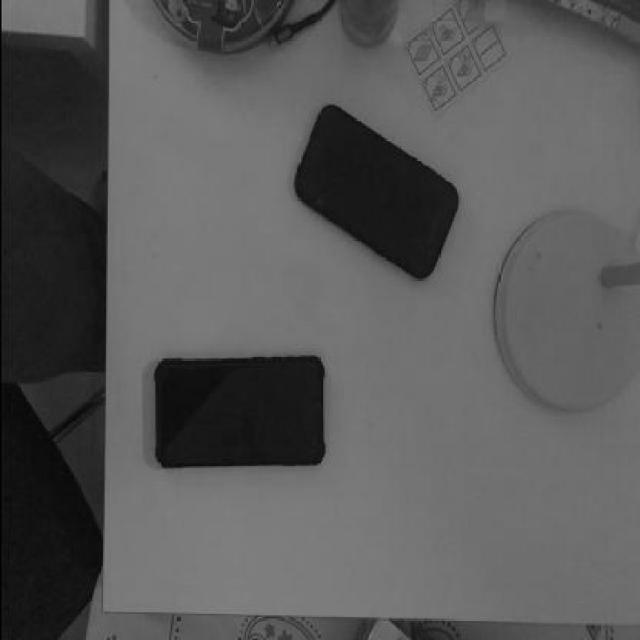fake: (293, 106, 459, 282), (151, 352, 324, 472)
